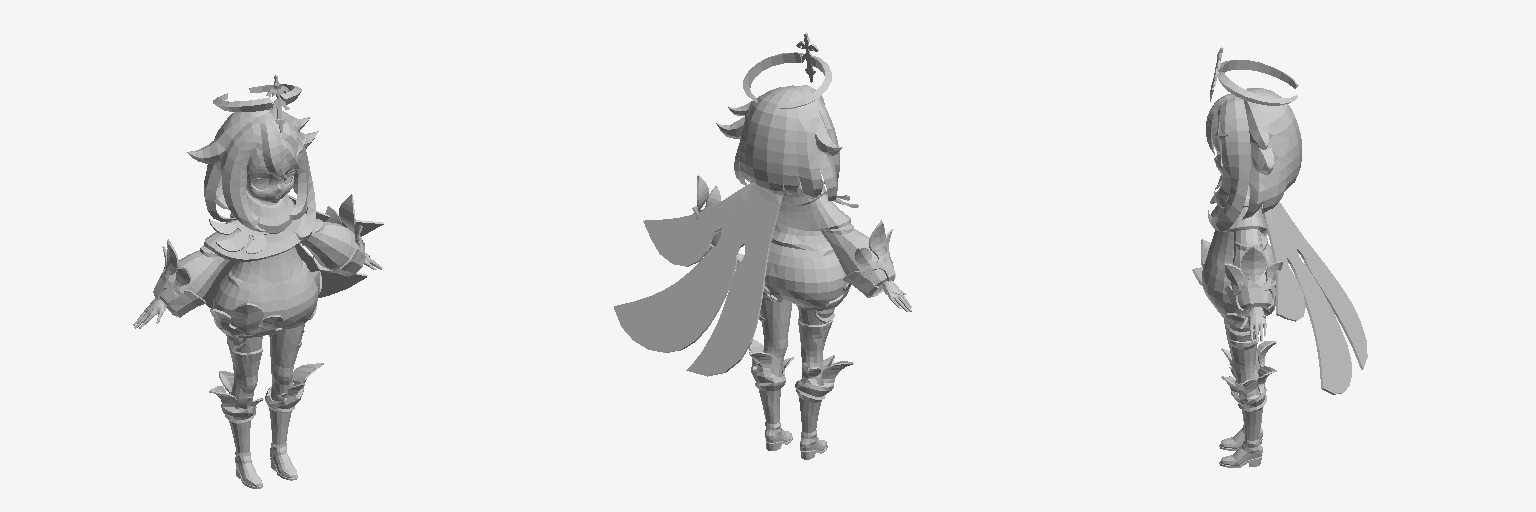
The model's file is paimon.obj.
The picture shows the model from 3 angles: view 1: azimuth 30°, elevation 25°; view 2: azimuth 150°, elevation 25°; view 3: azimuth 270°, elevation 25°; orthographic projection.
Visible parts, largest first — view 1: Mesh; view 2: Mesh; view 3: Mesh.
Boxes of the visible parts, x1,y1,x2,y2 form: Mesh: [133, 75, 383, 488]; Mesh: [614, 32, 911, 459]; Mesh: [1192, 47, 1367, 467].
Size of the model in its own units: 7.03 by 10.31 by 4.01.